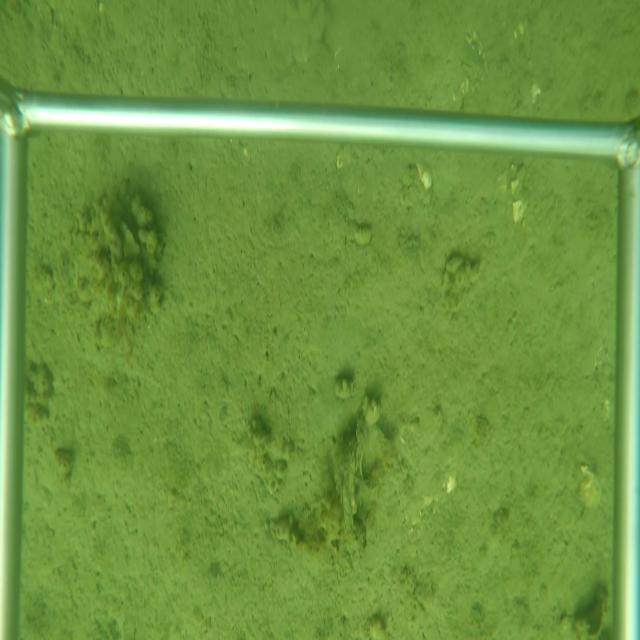Oyster-Closed: (338, 482, 354, 549)
Oyster-Indeterminate: (119, 217, 143, 260)
